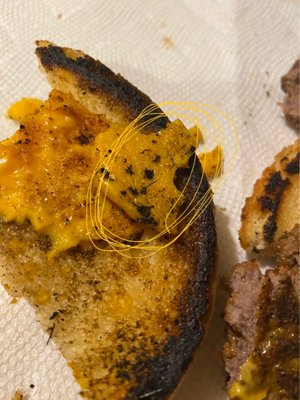curry: (1, 1, 300, 385)
sushi: (220, 66, 300, 400)
